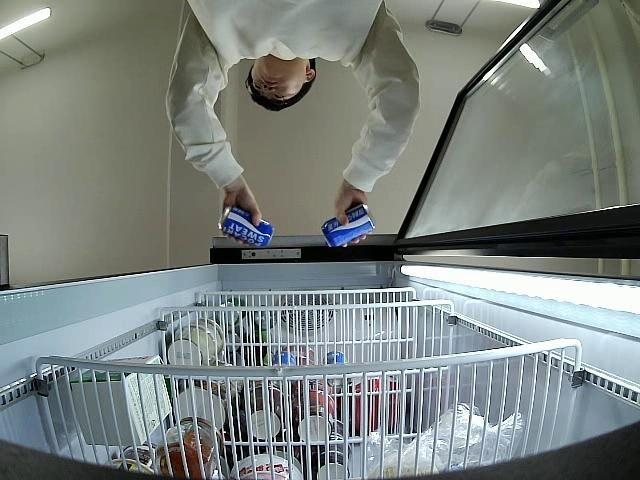13_pocariSweat: (217, 206, 276, 250), (322, 205, 372, 249)
